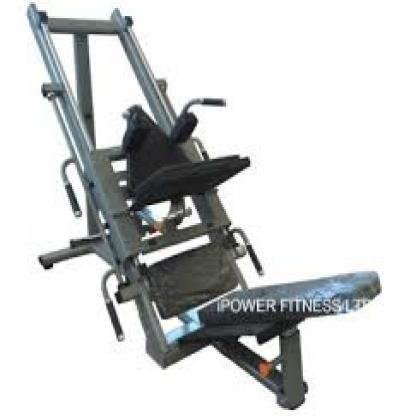leg press: (18, 0, 394, 416)
